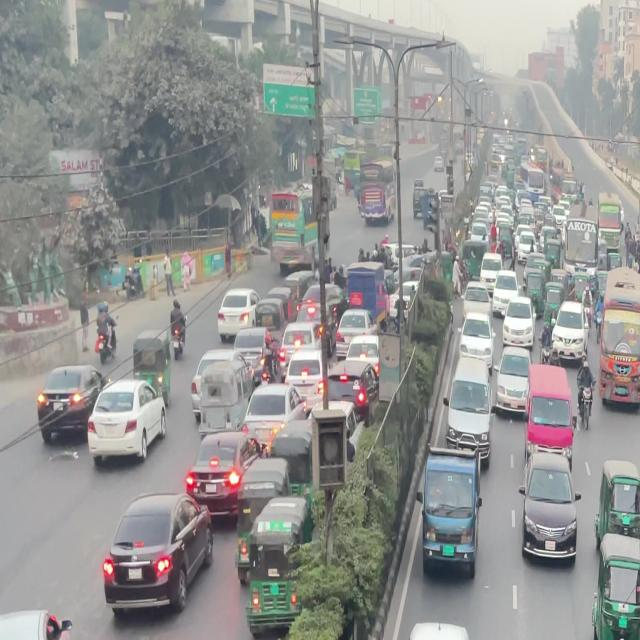bus: (595, 309, 640, 412), (267, 192, 317, 272)
car: (103, 494, 218, 622), (86, 378, 169, 471), (520, 454, 582, 563), (187, 430, 265, 511), (192, 347, 263, 430), (444, 351, 495, 461), (36, 368, 106, 435), (527, 366, 580, 454), (497, 343, 528, 429), (546, 294, 589, 354), (0, 609, 76, 640), (214, 279, 251, 338), (382, 624, 484, 640), (501, 296, 534, 342)
rickshaw: (241, 491, 318, 640), (591, 470, 640, 640)
van: (420, 439, 481, 578)
